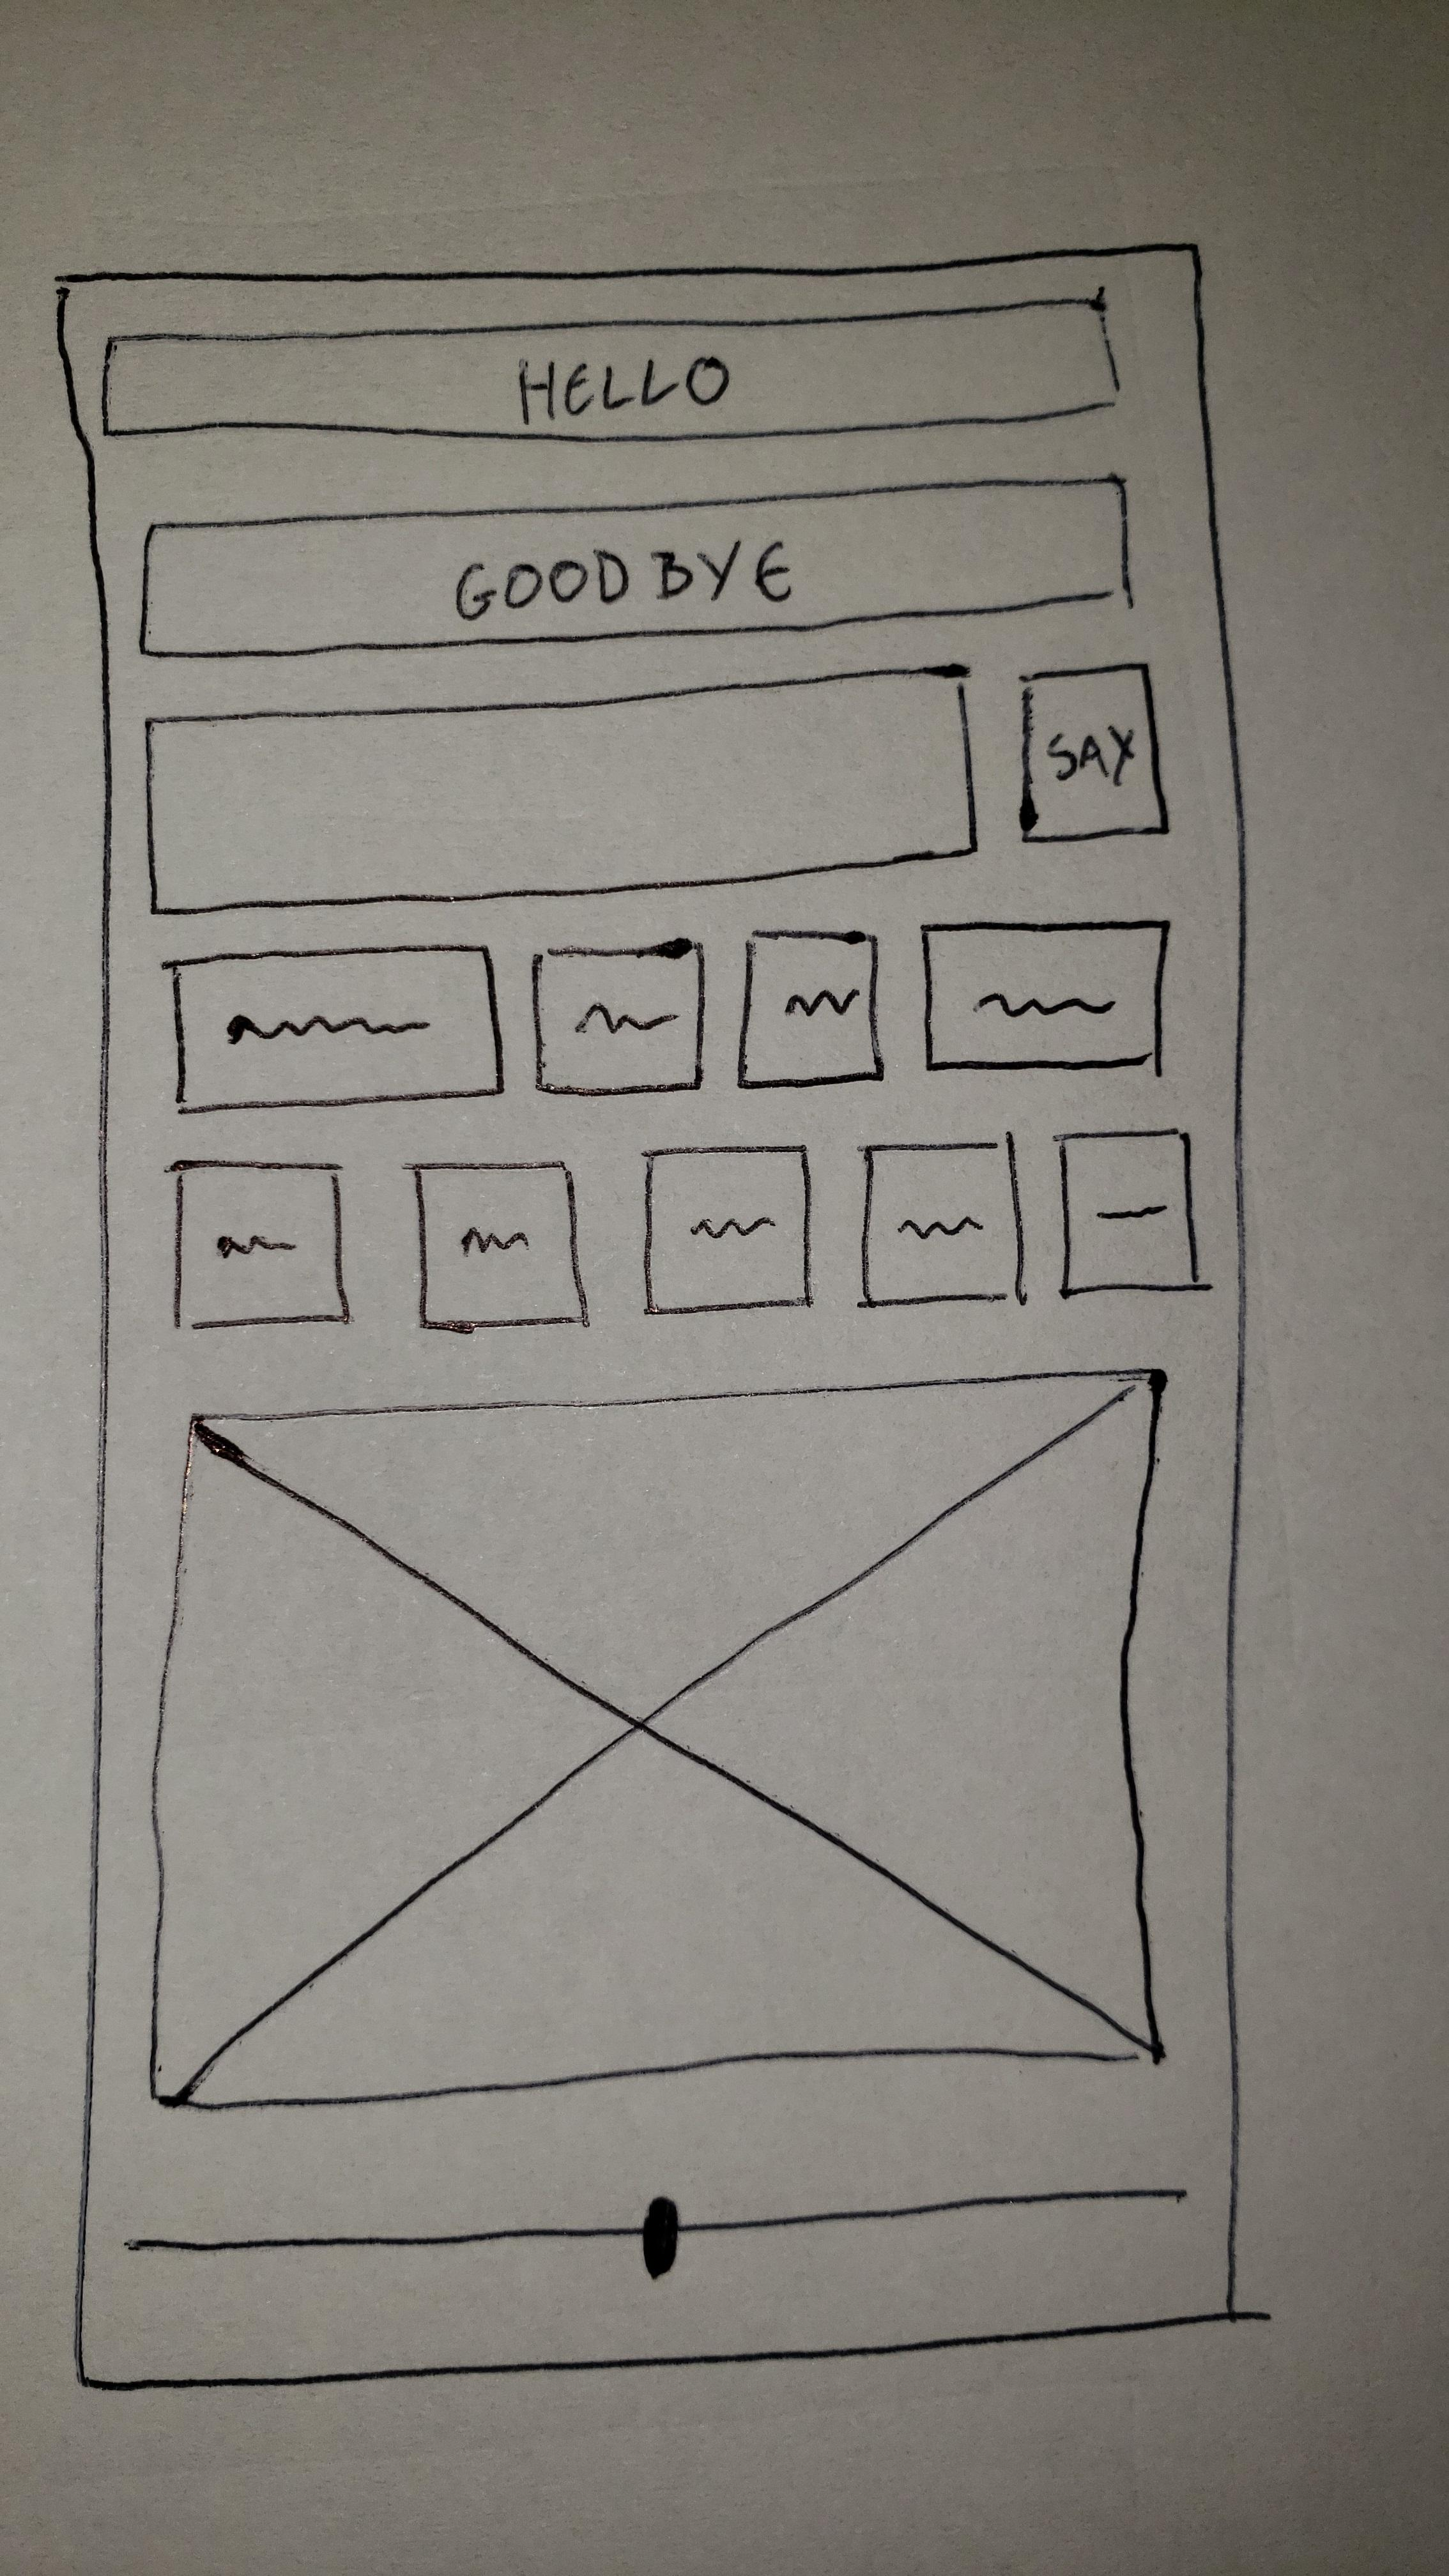Button: (140, 472, 1136, 658), (101, 292, 1123, 439), (170, 941, 504, 1109), (920, 916, 1171, 1069), (170, 1161, 350, 1329), (1017, 656, 1173, 842), (416, 1161, 586, 1330), (642, 1145, 812, 1311), (863, 1138, 1028, 1307), (533, 939, 702, 1095), (734, 924, 879, 1088), (1058, 1131, 1198, 1292)
Image: (147, 1368, 1162, 2109)
Screen: (73, 242, 1240, 2388)
Slider: (124, 2181, 1194, 2288)
TextBox: (140, 663, 984, 918)
